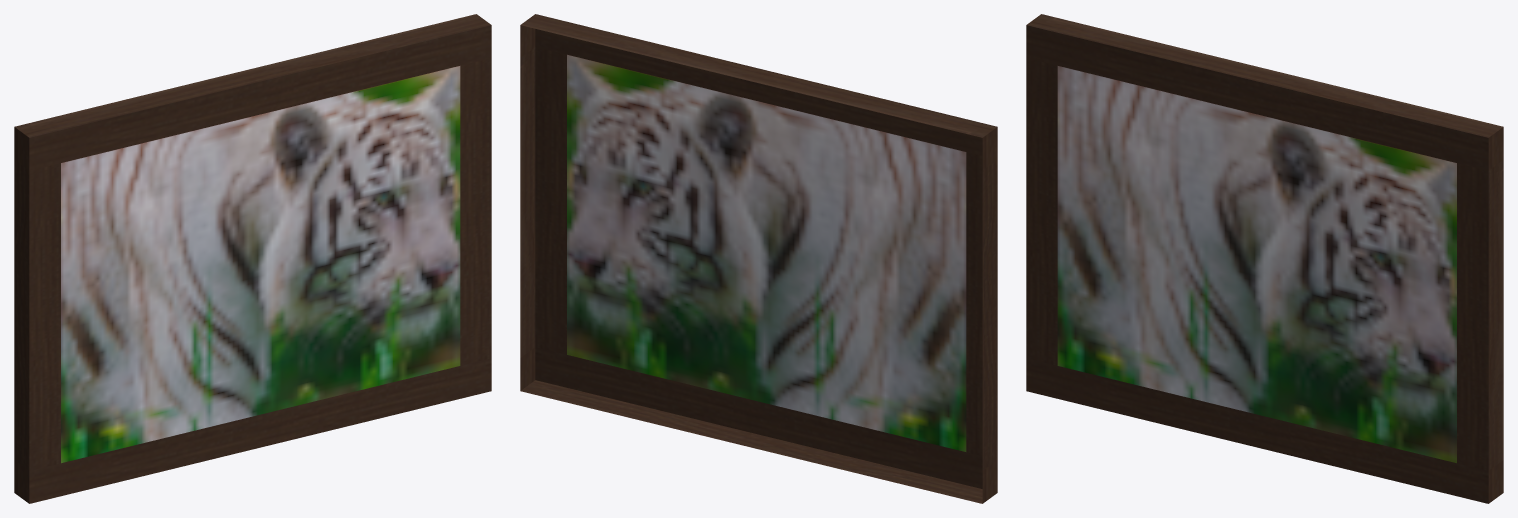
Rendered from Paint_3.fbx.
3 renders of one model, left to right at view 1: azimuth 30°, elevation 25°; view 2: azimuth 150°, elevation 25°; view 3: azimuth 330°, elevation 25°, orthographic.
Parts seen in each view (by area): view 1: polySurface1560; view 2: polySurface1560; view 3: polySurface1560.
Part boxes in pixels (x1,y1,x2,y2): polySurface1560: [14, 14, 491, 503]; polySurface1560: [520, 14, 997, 503]; polySurface1560: [1026, 14, 1503, 503].
Size of the model in its own units: 1.41 by 1.07 by 0.08.
